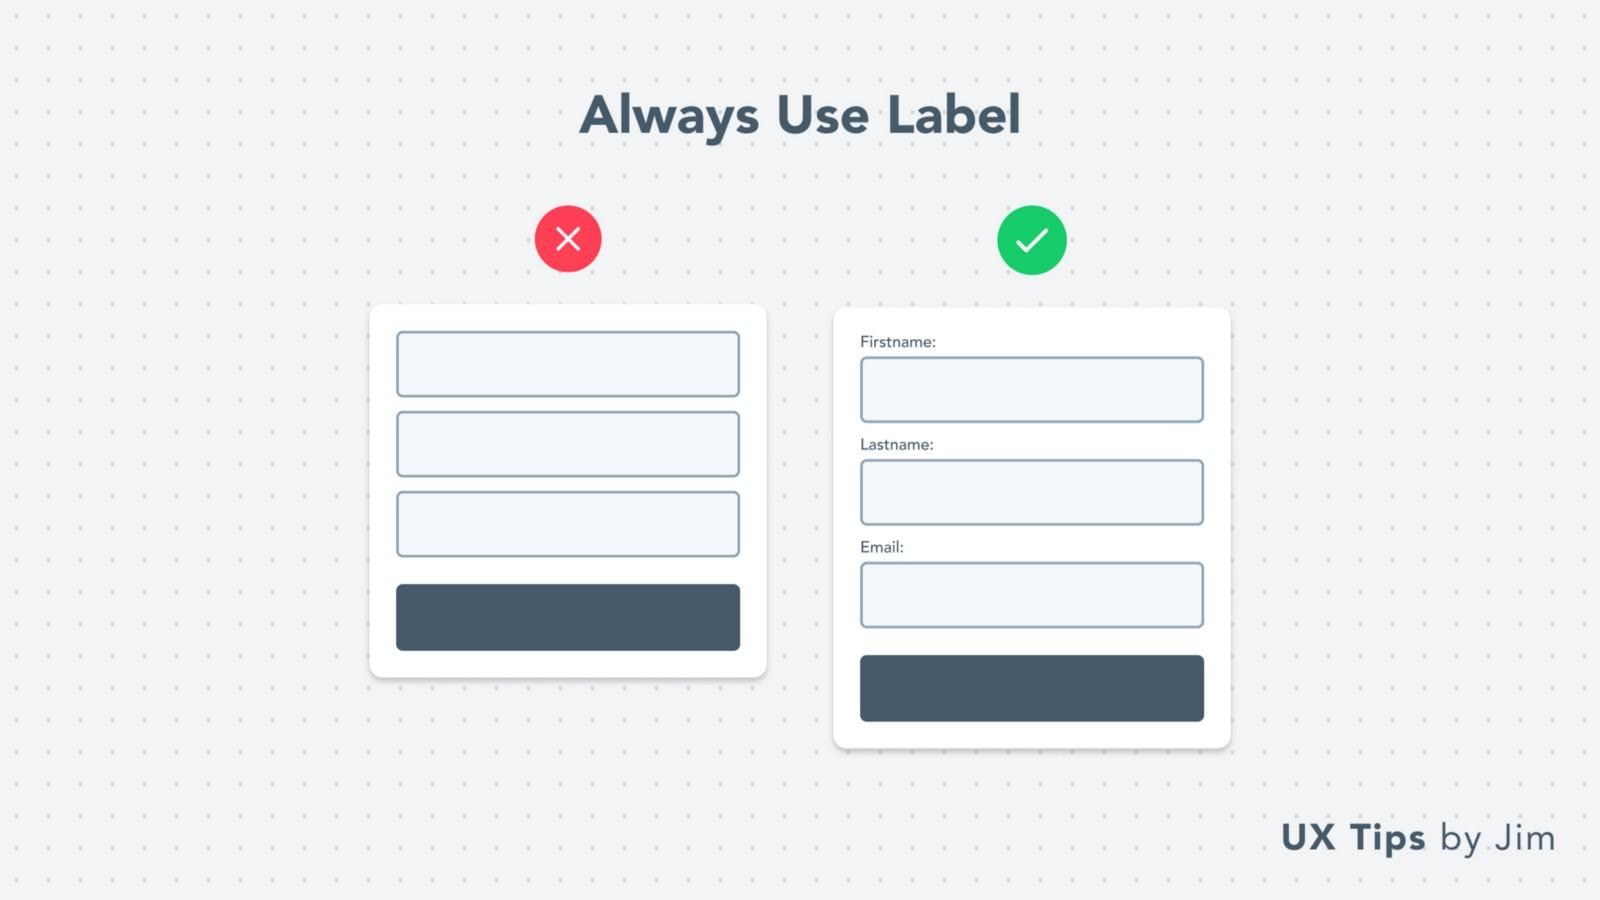button: (397, 584, 741, 654), (860, 655, 1205, 723)
input: (398, 332, 741, 400), (398, 492, 741, 558), (862, 358, 1204, 424), (397, 413, 741, 478), (862, 462, 1205, 526), (862, 563, 1205, 627)
label: (851, 331, 947, 356), (855, 530, 914, 564), (860, 436, 942, 459)
